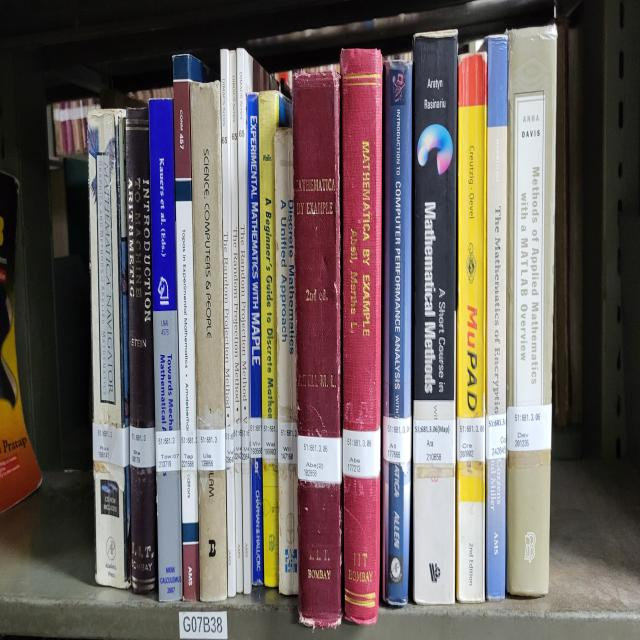Book: (506, 27, 556, 595), (292, 73, 342, 628), (412, 30, 458, 603), (340, 49, 382, 625), (172, 54, 209, 601), (89, 108, 131, 587), (190, 81, 228, 601), (236, 49, 271, 593), (381, 60, 412, 606), (456, 54, 486, 603), (149, 103, 182, 601), (125, 106, 158, 593), (484, 35, 508, 601), (274, 127, 299, 595), (259, 92, 280, 587), (220, 49, 236, 595), (248, 95, 264, 584), (231, 76, 244, 593)
Label: (506, 403, 551, 452), (298, 436, 342, 484), (342, 427, 380, 479), (414, 419, 455, 465), (92, 422, 130, 468), (456, 417, 485, 463), (382, 417, 411, 463), (198, 427, 225, 471), (155, 430, 181, 473), (130, 425, 155, 468), (486, 414, 506, 460), (278, 419, 298, 465), (261, 419, 278, 463), (180, 430, 198, 471), (250, 417, 261, 457), (225, 425, 234, 468), (241, 422, 250, 460), (234, 422, 241, 463)
